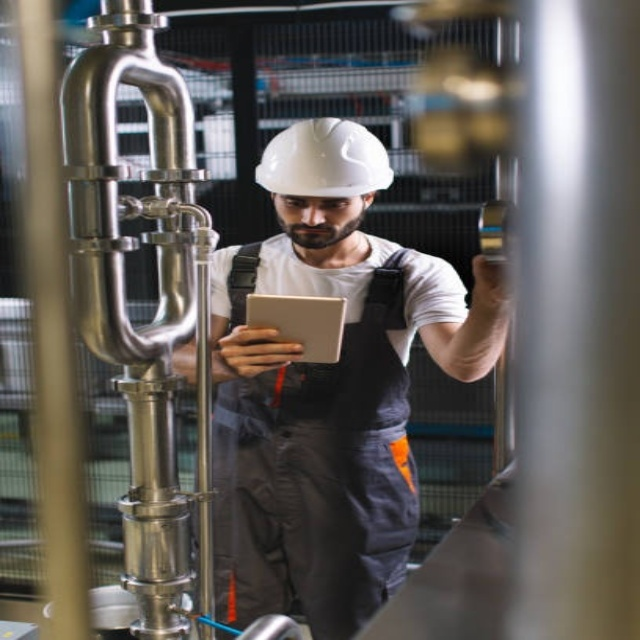Sin_gafas: (275, 195, 356, 215)
Sin_guantes: (215, 323, 305, 381)
Sin_mascara: (289, 222, 329, 248)
